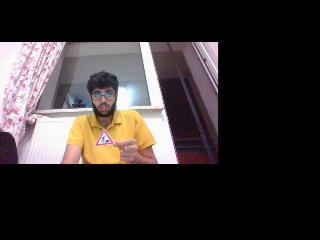construction: (94, 130, 114, 144)
